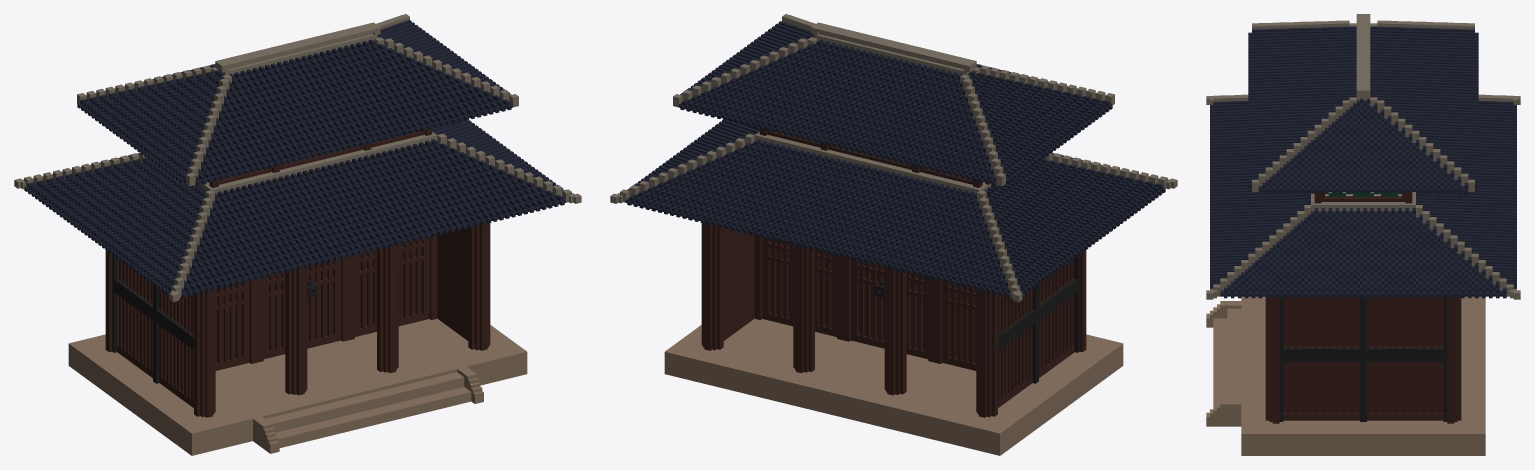
Rendered from Korean castle_door_03.FBX.
3 views of the same model, side by side, from view 1: azimuth 30°, elevation 25°; view 2: azimuth 150°, elevation 25°; view 3: azimuth 270°, elevation 25° (orthographic).
Visible parts, largest first — view 1: Voxel_Korean_traditional castle-13; view 2: Voxel_Korean_traditional castle-13; view 3: Voxel_Korean_traditional castle-13.
Boxes of the visible parts, left/top/right/bottom form: Voxel_Korean_traditional castle-13: left=14, top=14, right=581, bottom=455; Voxel_Korean_traditional castle-13: left=610, top=14, right=1177, bottom=455; Voxel_Korean_traditional castle-13: left=1206, top=14, right=1520, bottom=455.
Bounding box in the file's own units: 268 × 204 × 180.
1 material, 1 textured.
